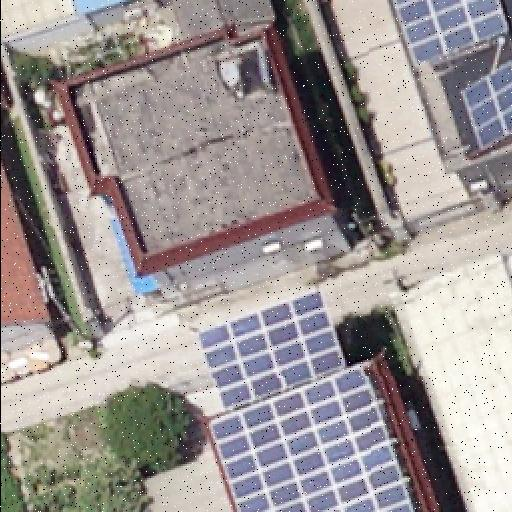solar-panel: (200, 362, 406, 512), (195, 289, 355, 413), (386, 2, 509, 68), (462, 62, 512, 164)
